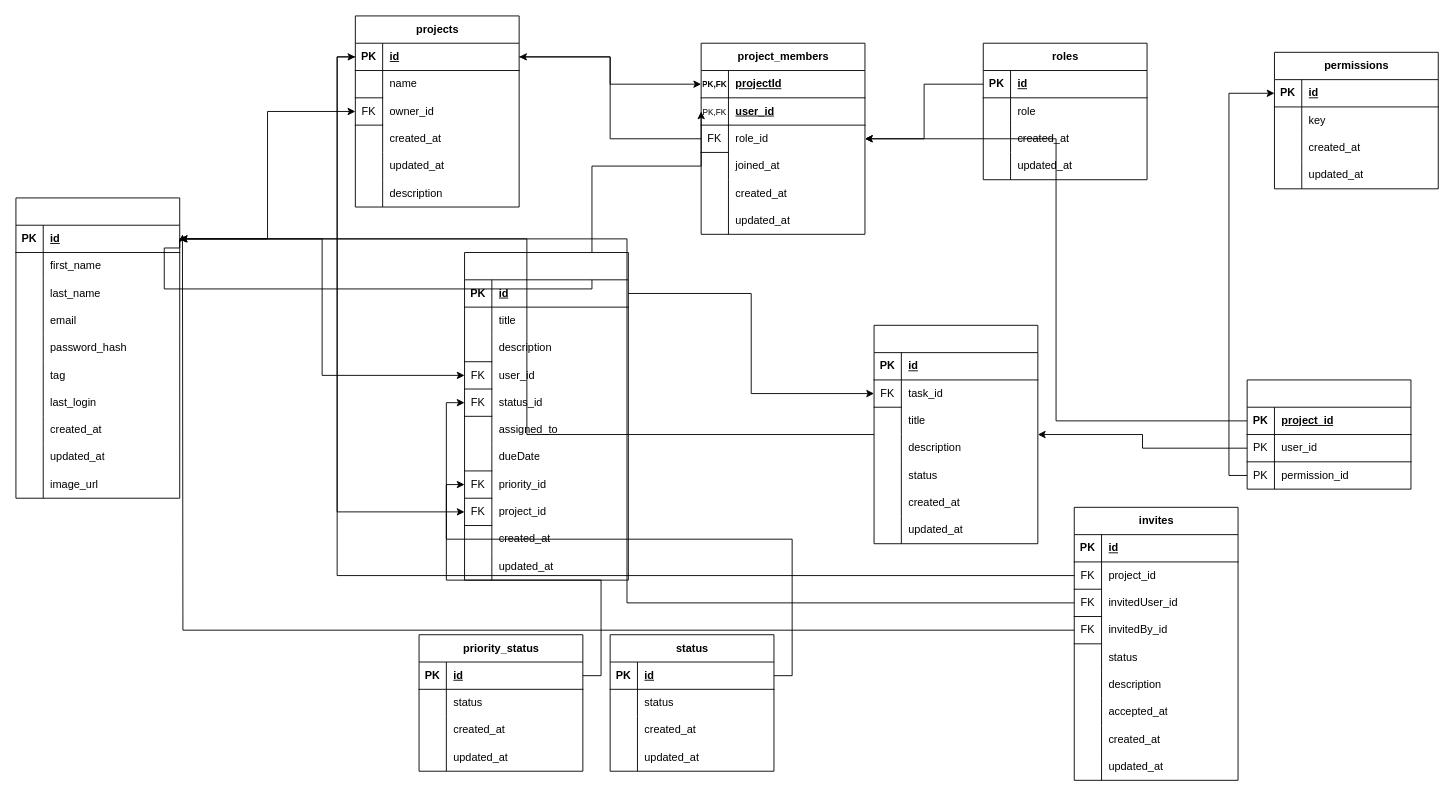
The diagram is 1454 pixels wide and 796 high, and some of its shapes have lost their labels. Here are the shapes that lost their labels. From the top down, the box of each, then its label:
(15, 197, 180, 498): users
(464, 252, 628, 580): tasks
(873, 324, 1038, 544): subtasks
(1246, 379, 1411, 489): member_permissions
